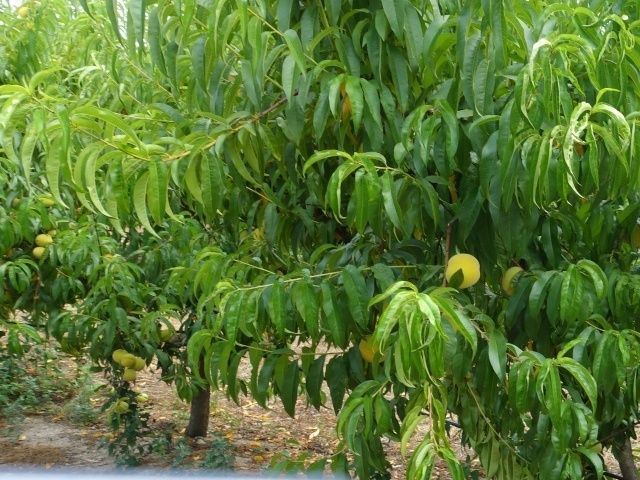peach: (441, 251, 485, 291), (356, 329, 394, 364), (497, 263, 526, 295), (28, 244, 51, 264), (31, 231, 54, 249), (109, 348, 130, 364), (120, 351, 137, 368), (121, 366, 138, 383)
